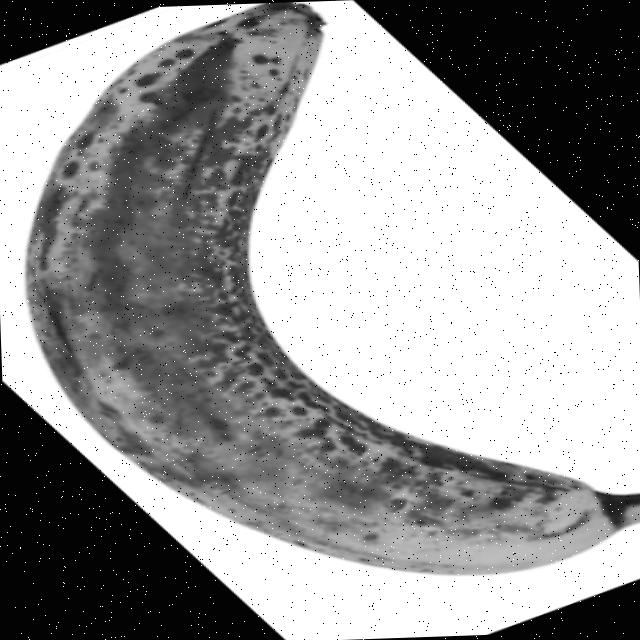overripe: (5, 0, 640, 590)
